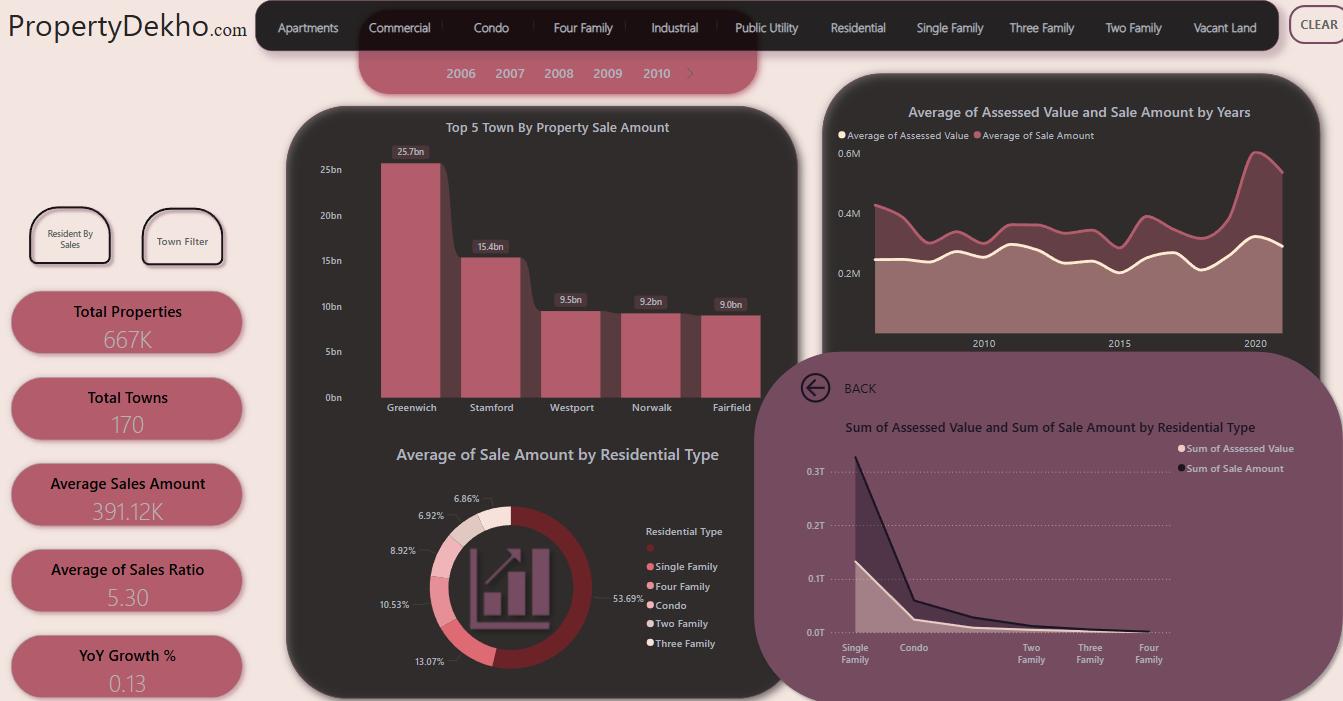

This screenshot's page, from the dashboard's own definition file:
{"tool":"powerbi","page":{"name":"Page 1","canvas":[1900,1000],"ordinal":0},"visuals":[{"type":"shape","box":[492,0,588,146],"z":0,"group":"g2"},{"type":"shape","box":[1140,84,738,916],"z":0,"group":"g3"},{"type":"shape","box":[386,132,754,868],"z":0},{"type":"actionButton","box":[33.8,280.8,133,99.2],"z":0,"group":"g4"},{"type":"donutChart","fields":{"Category":["Real_Estate_Sales_2001-2022_GL.Residential Type"],"Y":["Avg(Real_Estate_Sales_2001-2022_GL.Sale Amount)"]},"box":[526,622,520,378],"z":0,"group":"g1"},{"type":"slicer","fields":{"Values":["Real_Estate_Sales_2001-2022_GL.List Year"]},"box":[590,72,392,60],"z":1000,"group":"g2"},{"type":"actionButton","box":[192.4,281.8,133,99.2],"z":1000,"group":"g4"},{"type":"cardVisual","fields":{"Data":["Real_Estate_Sales_2001-2022_GL.Total Properties","Real_Estate_Sales_2001-2022_GL.Total Towns","Real_Estate_Sales_2001-2022_GL.Average Sales","Avg(Real_Estate_Sales_2001-2022_GL.Sales Ratio)","Real_Estate_Sales_2001-2022_GL.YoY Growth %"]},"box":[0,391.7,360,608.3],"z":1000},{"type":"map","fields":{"Category":["Real_Estate_Sales_2001-2022_GL.Town"]},"box":[1188,560,646,380],"z":1000,"group":"g3"},{"type":"actionButton","box":[630.7,742.3,217.5,182.5],"z":1000,"group":"g1"},{"type":"advancedSlicerVisual","fields":{"Values":["Real_Estate_Sales_2001-2022_GL.Property Type"]},"box":[360,0,1440,72],"z":2000,"group":"g2"},{"type":"lineChart","title":"Average of Assessed Value and Sale Amount by Years","fields":{"Y":["Avg(Real_Estate_Sales_2001-2022_GL.Assessed Value)","Avg(Real_Estate_Sales_2001-2022_GL.Sale Amount)"],"Category":["Real_Estate_Sales_2001-2022_GL.List Year"]},"box":[1176,142,690,360],"z":2000,"group":"g3"},{"type":"group","id":"g1","title":"Group 1","box":[526,622,520,378],"z":2000},{"type":"group","id":"g2","title":"Group 2","box":[360,0,1440,146],"z":3000},{"type":"textbox","box":[0,0,360,166.7],"z":4000},{"type":"group","id":"g3","title":"Group 3","box":[1140,84,738,916],"z":5000},{"type":"actionButton","box":[1815,7.5,85,55],"z":6000},{"type":"columnChart","title":"Top 5 Town By Property Sale Amount","fields":{"Y":["Sum(Real_Estate_Sales_2001-2022_GL.Sale Amount)"],"Category":["Real_Estate_Sales_2001-2022_GL.Town"]},"box":[446,166,678,428],"z":7000},{"type":"group","id":"g4","title":"Group 4","box":[33.8,280.8,291.3,99.2],"z":9000}]}

Visuals, with their boxes in screenshot pixels (x1, y1, x2, y2), scaled from the page's 1900x1000 canvas onto the 1343x701 screenshot:
shape: 348, 0, 763, 102
shape: 806, 59, 1327, 700
shape: 273, 93, 806, 700
actionButton: 24, 197, 118, 266
donutChart - Real_Estate_Sales_2001-2022_GL.Residential Type x Avg(Real_Estate_Sales_2001-2022_GL.Sale Amount): 372, 436, 739, 700
slicer - Real_Estate_Sales_2001-2022_GL.List Year: 417, 50, 694, 93
actionButton: 136, 198, 230, 267
cardVisual - Real_Estate_Sales_2001-2022_GL.Total Properties x Real_Estate_Sales_2001-2022_GL.Total Towns: 0, 275, 254, 700
map - Real_Estate_Sales_2001-2022_GL.Town: 840, 393, 1296, 659
actionButton: 446, 520, 600, 648
advancedSlicerVisual - Real_Estate_Sales_2001-2022_GL.Property Type: 254, 0, 1272, 50
"Average of Assessed Value and Sale Amount by Years" lineChart: 831, 100, 1319, 352
"Group 1" group: 372, 436, 739, 700
"Group 2" group: 254, 0, 1272, 102
textbox: 0, 0, 254, 117
"Group 3" group: 806, 59, 1327, 700
actionButton: 1283, 5, 1342, 44
"Top 5 Town By Property Sale Amount" columnChart: 315, 116, 794, 416
"Group 4" group: 24, 197, 230, 266
